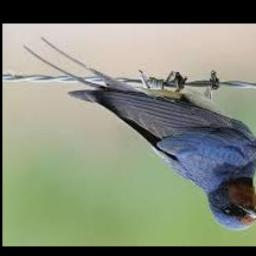Swallow: (23, 37, 256, 231)
